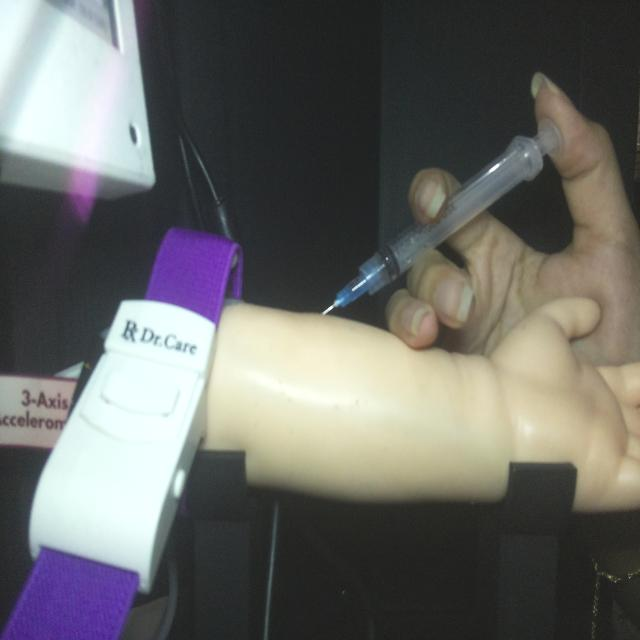26 degrees: (320, 113, 564, 318)
